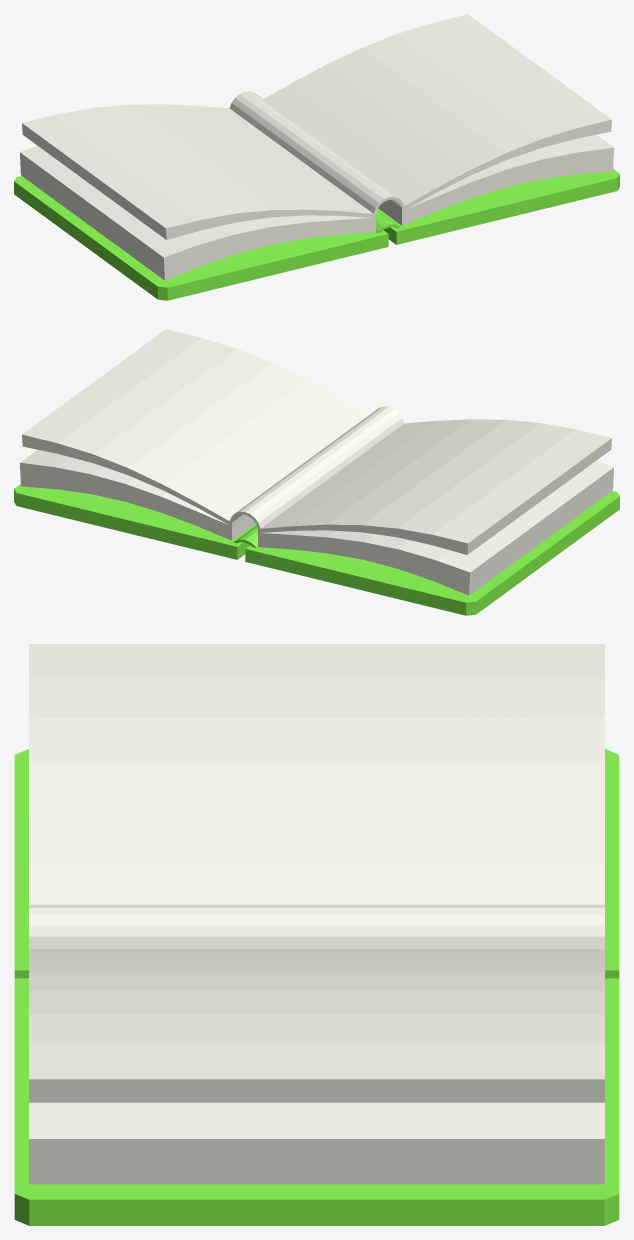
File: Book_Open_1b.fbx
The picture shows the model from 3 angles, top to bottom: view 1: azimuth 30°, elevation 25°; view 2: azimuth 150°, elevation 25°; view 3: azimuth 270°, elevation 25°; orthographic projection. The views are drawn at different scales.
Visible parts, largest first — view 1: Book_Open_1b; view 2: Book_Open_1b; view 3: Book_Open_1b.
Part boxes in pixels (x1=…): Book_Open_1b: x1=14, y1=14, x2=619, y2=300; Book_Open_1b: x1=14, y1=329, x2=619, y2=615; Book_Open_1b: x1=14, y1=644, x2=619, y2=1225.
Bounding box in the file's own units: 0.3708 × 0.0532 × 0.2101.
